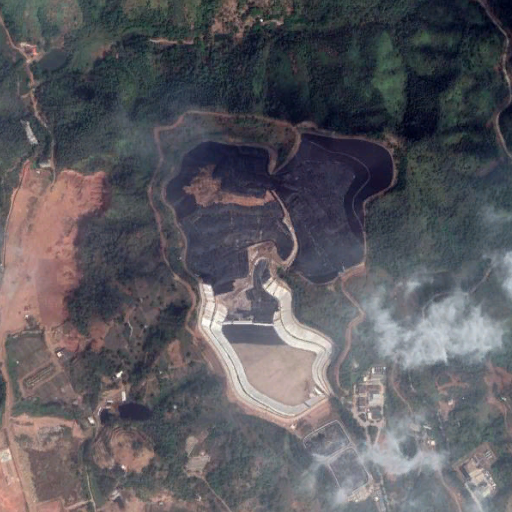lf: (167, 133, 393, 422)
